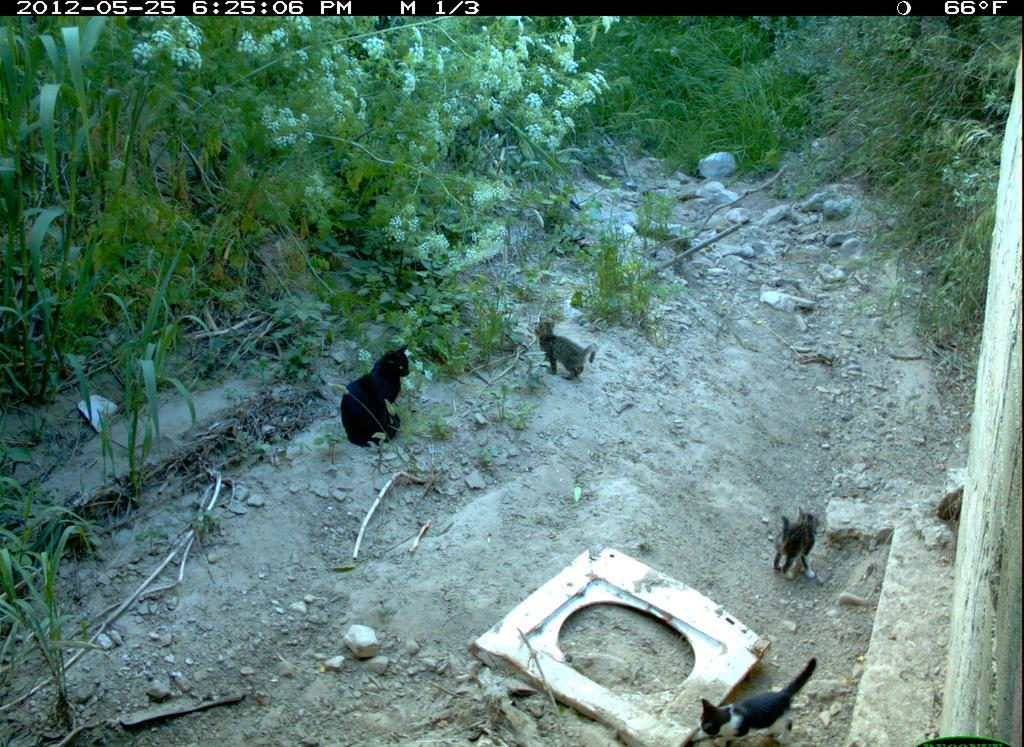cat: (693, 655, 826, 744), (338, 344, 423, 457), (527, 305, 601, 388), (769, 504, 827, 592)
